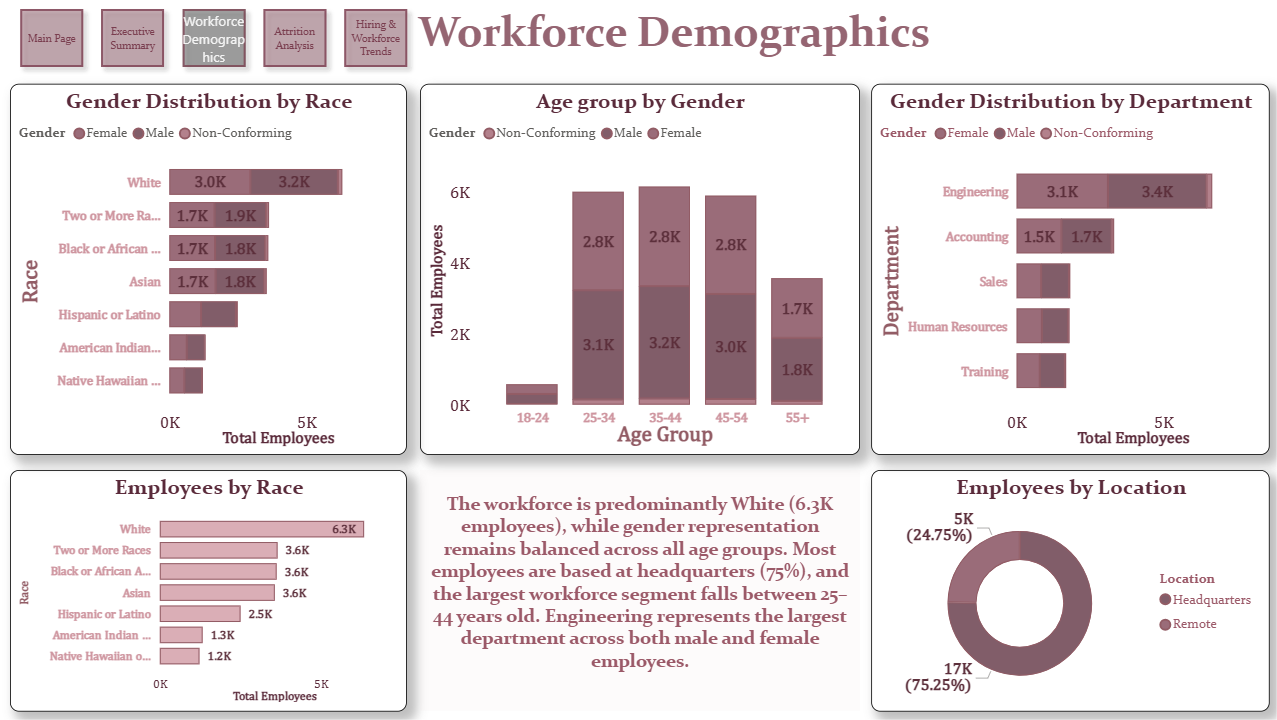

What the dashboard file says about the page in this screenshot:
{"tool":"powerbi","page":{"name":"Workforce Demographics ","canvas":[1280,720],"ordinal":2},"visuals":[{"type":"textbox","box":[395,0,558,87],"z":0},{"type":"barChart","title":"Employees by Race","fields":{"Category":["HR Data.race"],"Y":["_Mesures.Total_Employees"]},"box":[10,470,397.1,241.4],"z":1000},{"type":"donutChart","title":"Employees by Location","fields":{"Category":["HR Data.location"],"Y":["_Mesures.Total_Employees"]},"box":[871.4,470,398.6,241.4],"z":2000},{"type":"columnChart","title":"Age group by Gender ","fields":{"Category":["HR Data.Age Group2"],"Series":["HR Data.gender"],"Y":["_Mesures.Total_Employees"]},"box":[420,84.3,440,371.4],"z":3000},{"type":"barChart","title":"Gender Distribution by Race","fields":{"Category":["HR Data.race"],"Series":["HR Data.gender"],"Y":["_Mesures.Total_Employees"]},"box":[10,84.3,397.1,371.4],"z":4000},{"type":"barChart","title":"Gender Distribution by Department","fields":{"Category":["HR Data.department"],"Series":["HR Data.gender"],"Y":["_Mesures.Total_Employees"]},"box":[871.4,84.3,398.6,371.4],"z":5000},{"type":"textbox","box":[420,470,440,241],"z":6000},{"type":"pageNavigator","box":[11.2,0,407.5,76.2],"z":7000}]}

Visuals, with their boxes in screenshot pixels (x1, y1, x2, y2), scaled from the page's 1280x720 canvas onto the 1277x720 screenshot:
textbox: 394/0/951/87
"Employees by Race" barChart: 10/470/406/711
"Employees by Location" donutChart: 869/470/1267/711
"Age group by Gender " columnChart: 419/84/858/456
"Gender Distribution by Race" barChart: 10/84/406/456
"Gender Distribution by Department" barChart: 869/84/1267/456
textbox: 419/470/858/711
pageNavigator: 11/0/418/76
